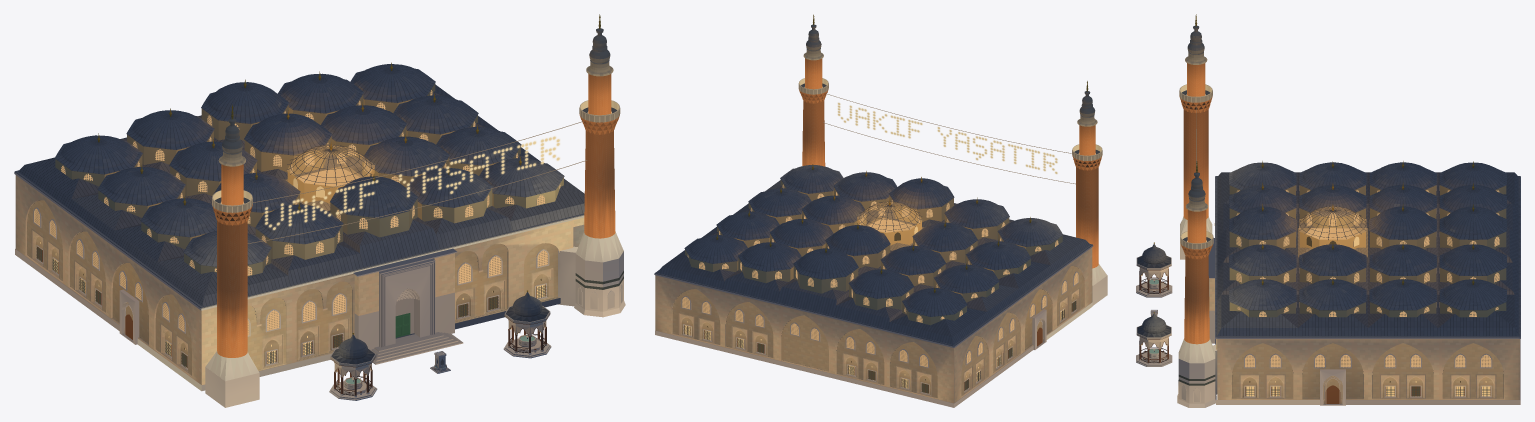
Rendered from ulu-cami_v32_night_v2.glb.
3 views of the same model, side by side, from view 1: azimuth 30°, elevation 25°; view 2: azimuth 150°, elevation 25°; view 3: azimuth 270°, elevation 25° (orthographic). The views are drawn at different scales.
Parts seen in each view (by area): view 1: Kubbeler_19, Cati, Cephe_Kuzey, Cephe_Dogu, Minare_1, Minare_2, Pencere_Girintileri, Tac_Kapi, Giris_Cikintili_Blok, Mahya, Sadirvan_Kubbe, Kasnak_Pencereleri (+7 smaller); view 2: Kubbeler_19, Cephe_Guney, Cati, Cephe_Dogu, Pencere_Girintileri, Minare_2, Minare_1, Mermer_Bant, Mahya, Sadirvan_Kubbe, Kasnak_Pencereleri, Silme_Ust (+2 smaller); view 3: Kubbeler_19, Cephe_Bati, Cati, Minare_1, Minare_2, Pencere_Girintileri, Sadirvan_Kubbe, Kasnak_Pencereleri, Avlu_Sadirvan_Dogu, Avlu_Sadirvan_Bati, Mermer_Bant, Kapi_Bati (+3 smaller).
Part boxes in pixels (box(x1,y1,x2,y2)): Kubbeler_19: box(54, 64, 564, 276); Cati: box(14, 84, 584, 308); Cephe_Kuzey: box(201, 217, 584, 384); Cephe_Dogu: box(16, 175, 200, 384); Minare_1: box(558, 14, 625, 317); Minare_2: box(205, 104, 259, 407); Pencere_Girintileri: box(31, 229, 553, 372); Tac_Kapi: box(371, 258, 463, 364); Giris_Cikintili_Blok: box(353, 248, 457, 350); Mahya: box(247, 121, 587, 243); Sadirvan_Kubbe: box(287, 145, 374, 203); Kasnak_Pencereleri: box(61, 90, 560, 275); Kubbeler_19: box(684, 165, 1062, 325); Cephe_Guney: box(655, 275, 954, 403); Cati: box(654, 180, 1092, 346); Cephe_Dogu: box(954, 248, 1091, 402); Pencere_Girintileri: box(678, 287, 1080, 396); Minare_2: box(1072, 81, 1107, 305); Minare_1: box(798, 14, 828, 166); Mermer_Bant: box(655, 302, 1092, 407); Mahya: box(823, 93, 1075, 184); Sadirvan_Kubbe: box(857, 202, 922, 245); Kasnak_Pencereleri: box(687, 184, 1058, 322); Silme_Ust: box(654, 245, 1093, 347); Kubbeler_19: box(1229, 162, 1506, 317); Cephe_Bati: box(1217, 339, 1518, 403); Cati: box(1215, 172, 1520, 337); Minare_1: box(1177, 161, 1217, 407); Minare_2: box(1179, 14, 1212, 259); Pencere_Girintileri: box(1239, 374, 1496, 398); Sadirvan_Kubbe: box(1299, 207, 1366, 249); Kasnak_Pencereleri: box(1236, 185, 1499, 316); Avlu_Sadirvan_Dogu: box(1136, 242, 1172, 297); Avlu_Sadirvan_Bati: box(1136, 312, 1172, 366); Mermer_Bant: box(1215, 339, 1520, 404); Kapi_Bati: box(1320, 369, 1345, 405).
Size of the model in its own units: 70.59 by 48.1 by 70.23.
38 materials, 9 textured.
